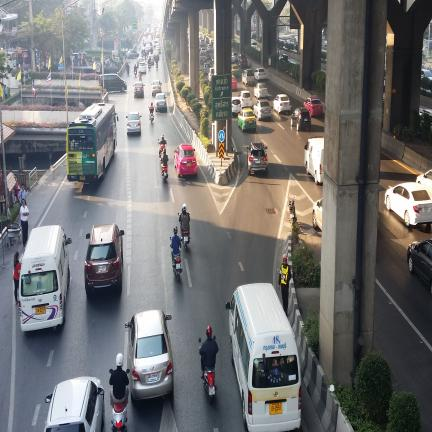bus: (66, 103, 117, 183)
car: (125, 310, 173, 401), (44, 377, 104, 432), (84, 224, 124, 296), (385, 182, 432, 227), (407, 239, 432, 293), (247, 142, 268, 175), (291, 107, 311, 132), (416, 170, 432, 196), (273, 94, 291, 115), (253, 100, 271, 120), (312, 198, 323, 230), (126, 112, 141, 135), (238, 90, 253, 108), (154, 93, 167, 112), (254, 83, 268, 99), (242, 69, 255, 86), (232, 97, 242, 116), (133, 81, 144, 98), (254, 67, 266, 81), (152, 79, 161, 97), (238, 54, 248, 68), (421, 68, 432, 80), (136, 55, 145, 69), (231, 63, 239, 78), (138, 61, 147, 74), (208, 67, 215, 83), (127, 49, 139, 58), (232, 52, 239, 63), (203, 63, 210, 74), (147, 54, 154, 65), (206, 43, 214, 52), (231, 57, 237, 65), (199, 39, 205, 47), (129, 113, 134, 115), (138, 114, 139, 116), (108, 395, 109, 397), (128, 132, 128, 133)
human: (110, 354, 129, 406), (200, 326, 218, 378), (279, 255, 291, 314), (20, 199, 29, 246), (13, 252, 21, 303), (179, 203, 190, 237), (171, 227, 181, 264)
motorbike: (203, 367, 216, 404), (112, 403, 127, 432), (172, 253, 182, 281), (289, 196, 297, 224), (181, 229, 190, 251), (181, 230, 190, 251), (161, 165, 168, 183), (158, 142, 165, 158), (150, 112, 154, 124), (126, 68, 129, 76), (134, 69, 137, 77), (148, 63, 151, 70), (126, 369, 130, 374), (109, 369, 113, 373), (156, 63, 158, 70), (213, 336, 216, 340), (188, 212, 190, 217), (199, 338, 201, 343), (178, 213, 180, 217), (170, 237, 172, 240), (200, 347, 200, 349)
pickup: (199, 49, 207, 63), (205, 37, 210, 44)
taxi: (174, 144, 197, 177), (238, 108, 256, 132), (303, 96, 323, 116), (231, 64, 239, 78), (232, 75, 238, 91)
van: (226, 283, 301, 432), (19, 226, 72, 331), (304, 137, 324, 184), (99, 74, 127, 92)
